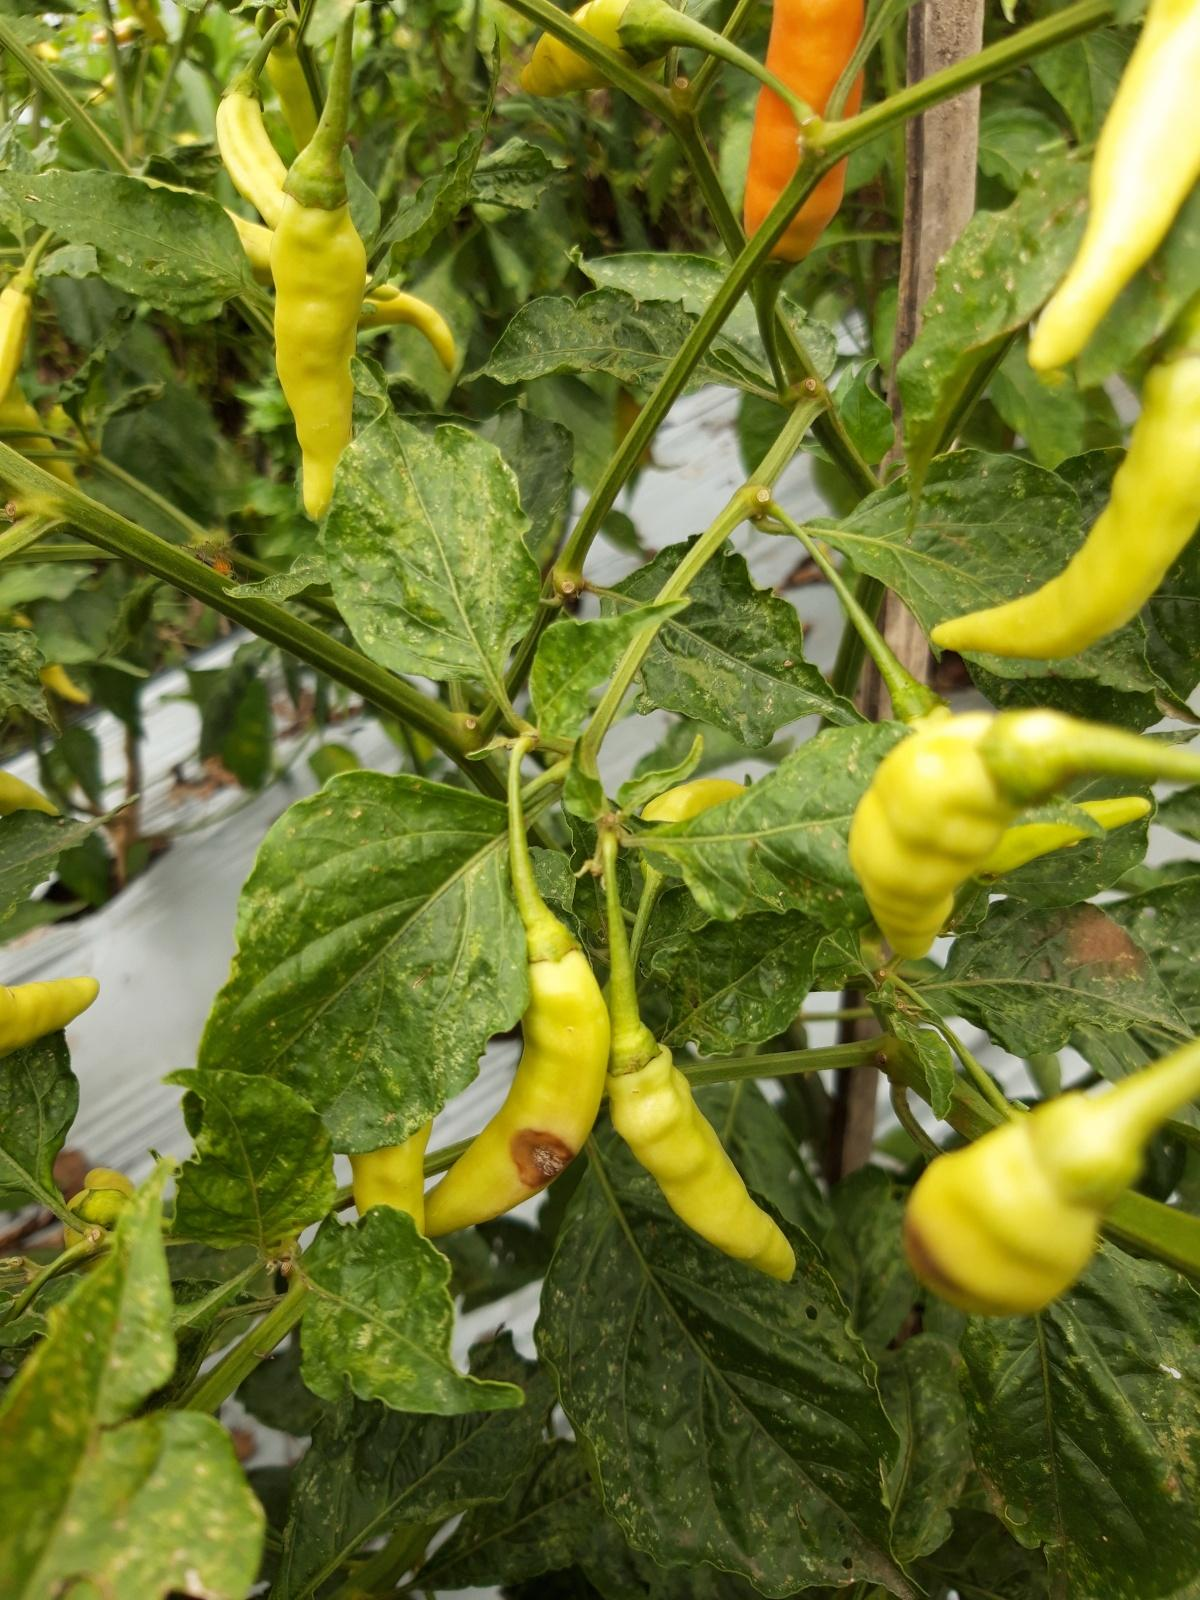cabai_normal: (930, 343, 1200, 660), (1024, 3, 1200, 370), (847, 706, 1074, 960), (603, 1024, 795, 1280), (268, 147, 368, 517), (742, 1, 865, 285), (518, 1, 672, 101)
lalat_buah: (425, 921, 613, 1237)
